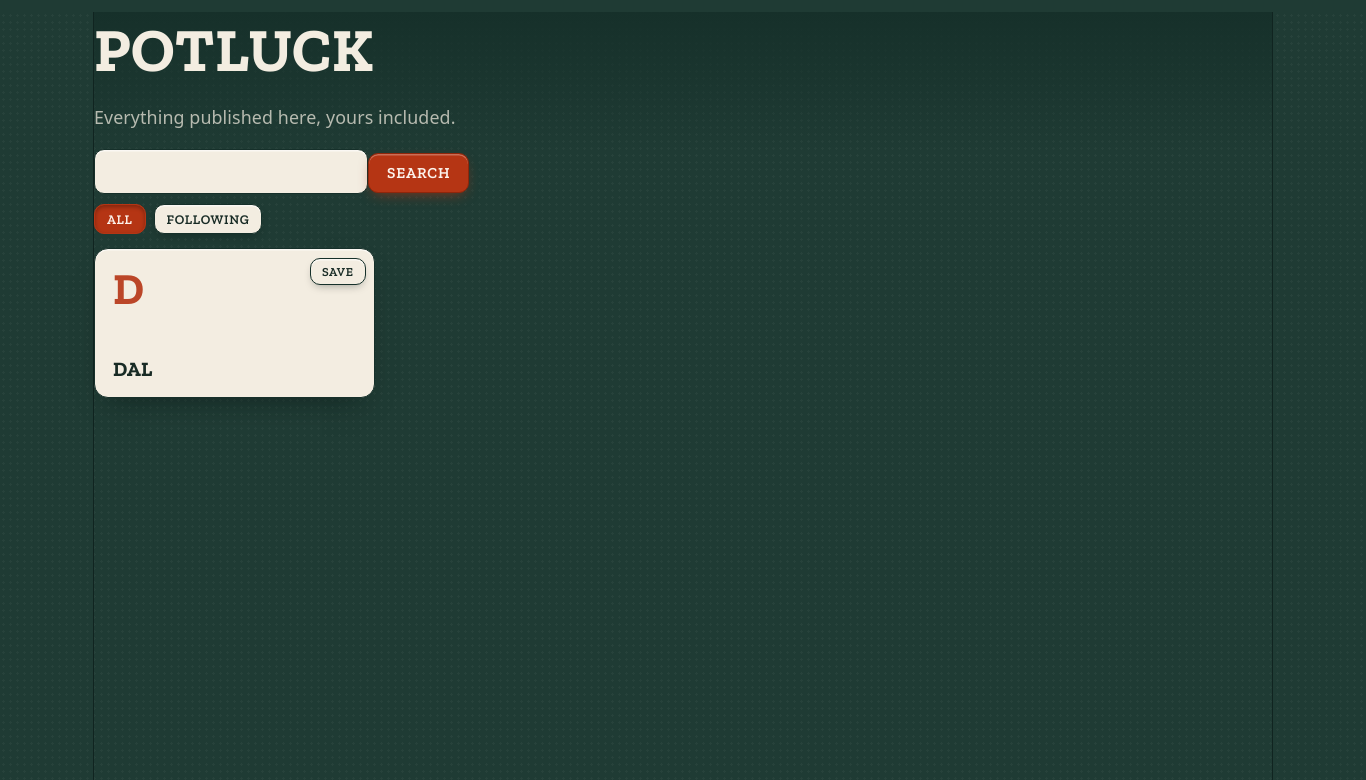
Test: saving a card marks it as in your vault without a reload
Click the button with aria-label "save dal to my vault" at (338, 271), box [310,258,366,285]
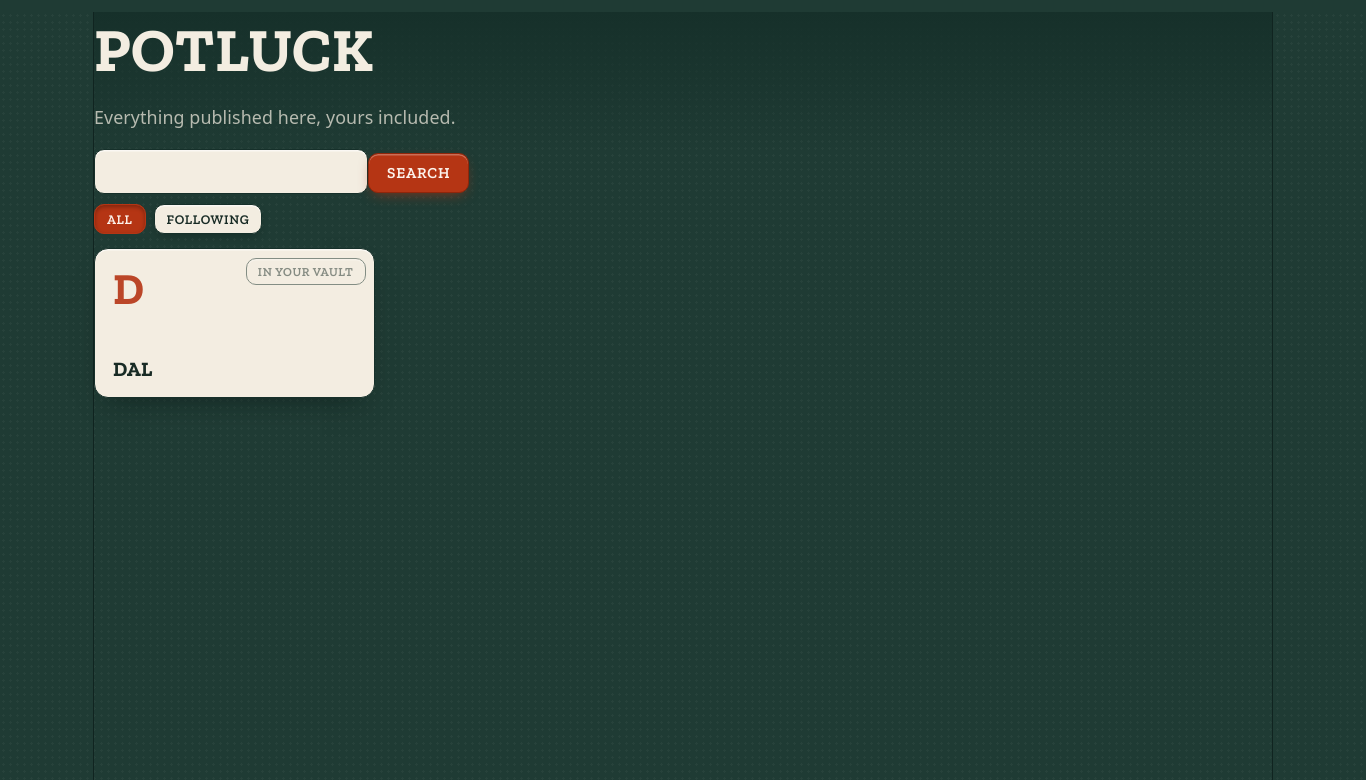
expect the button with aria-label "is in your vault" is disabled: met, box [246,258,366,285]
